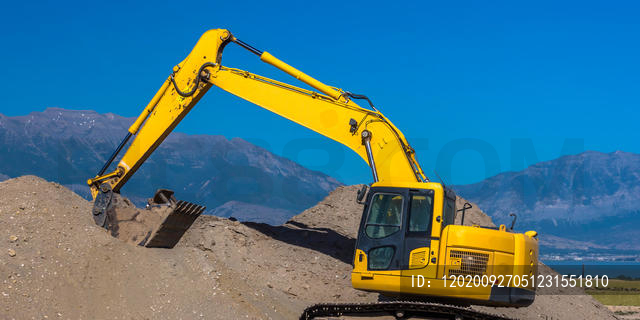excavator: (88, 25, 542, 320)
